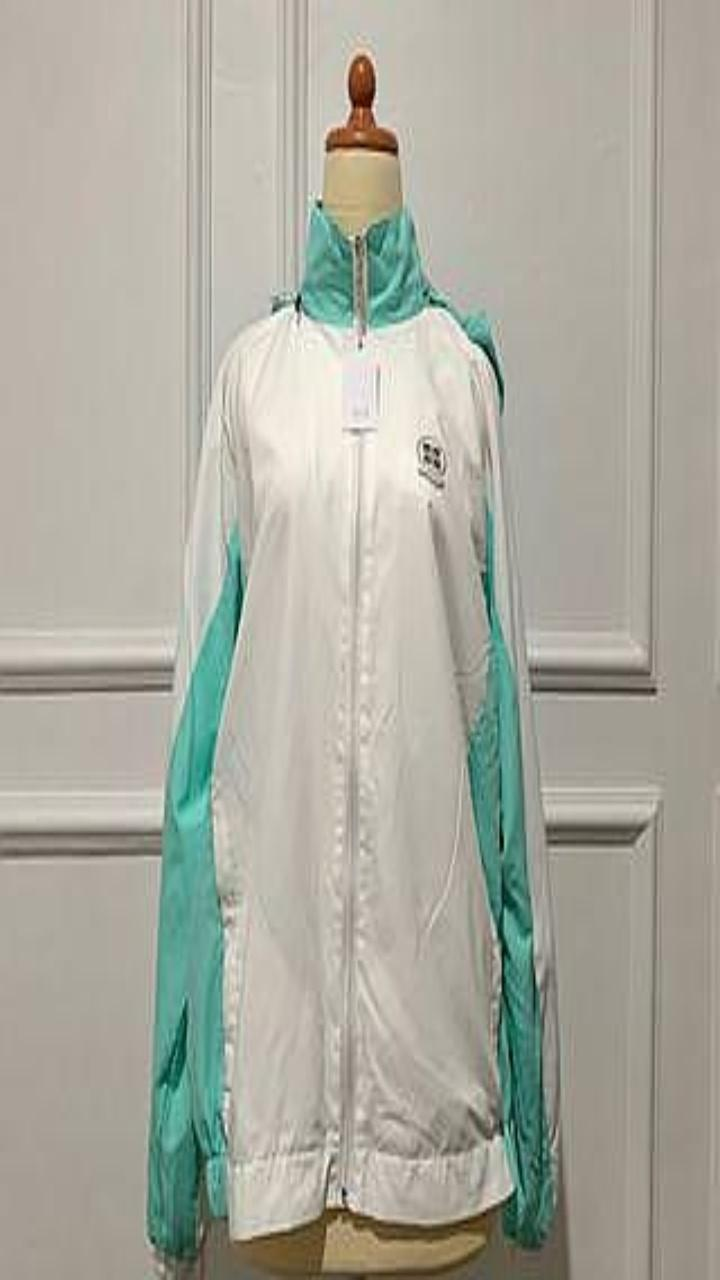Sports_Jacket: (147, 198, 559, 1273)
